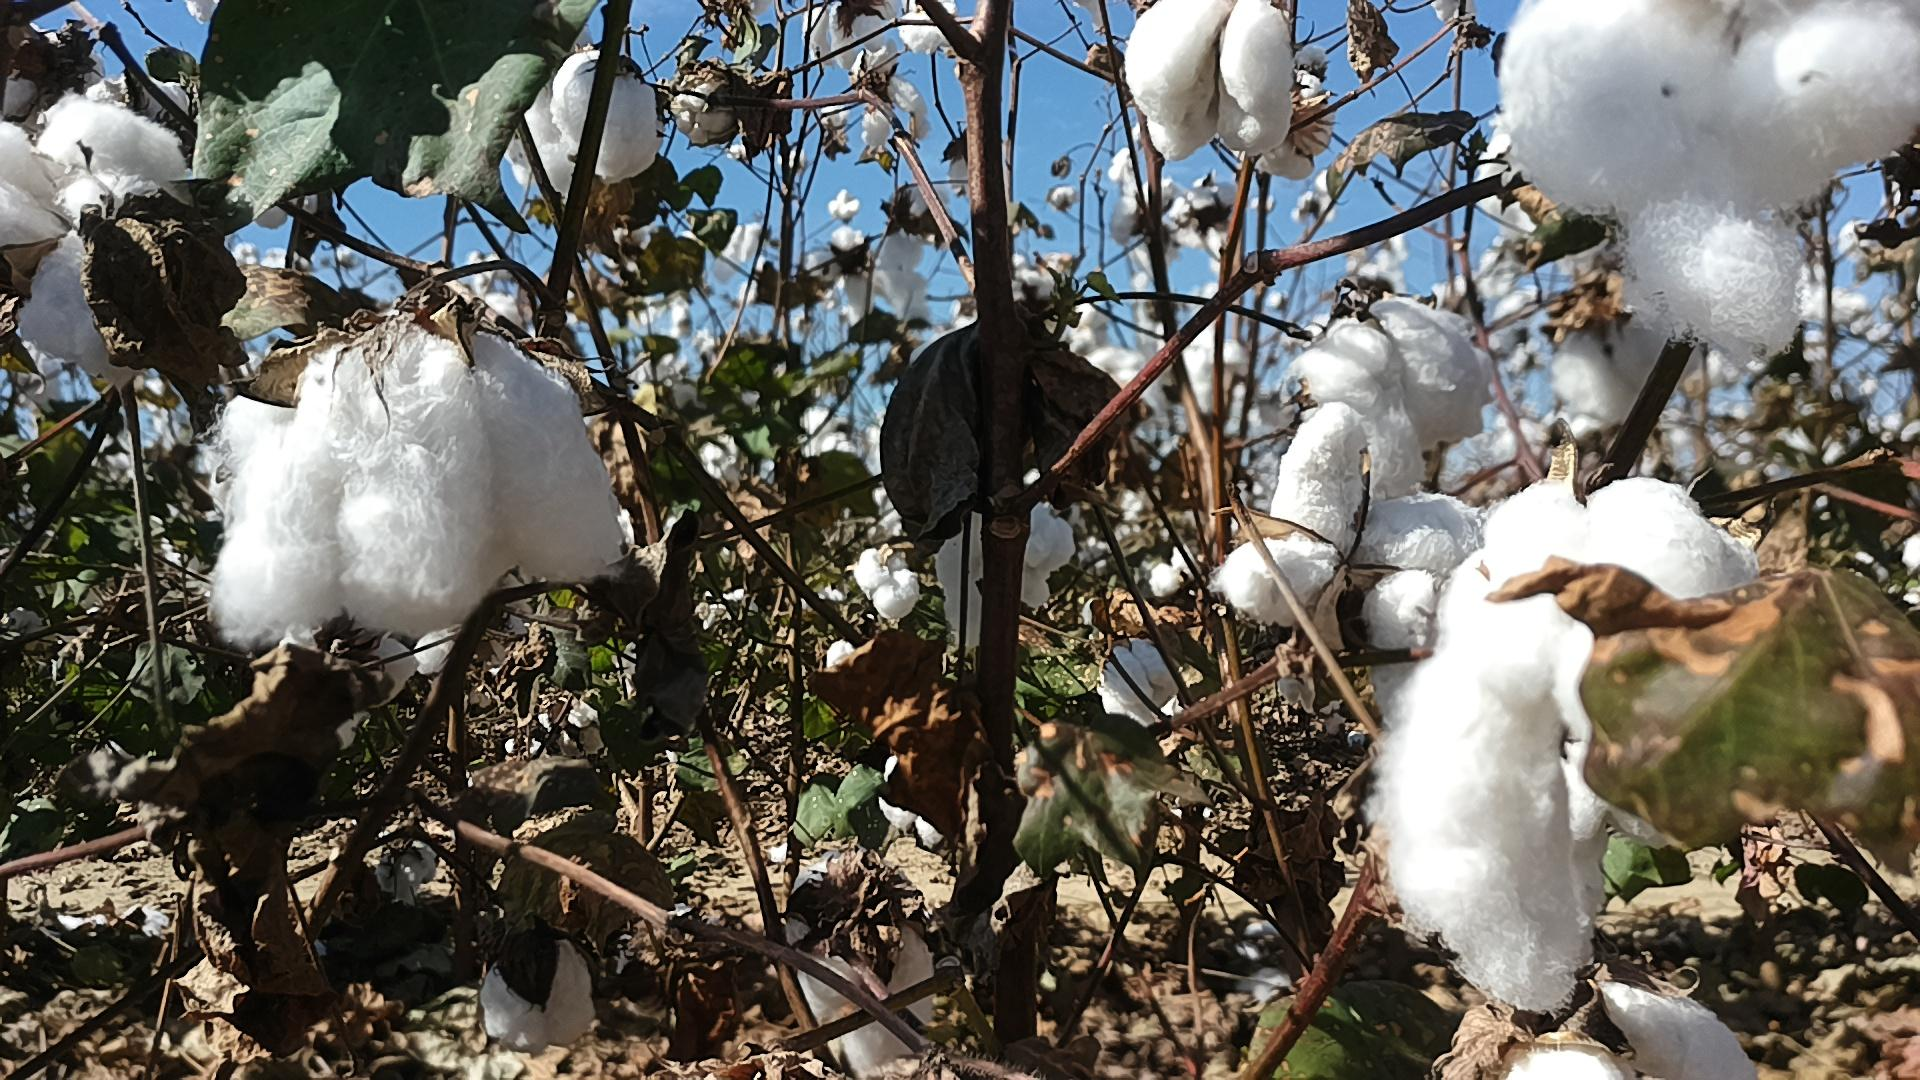cotton_ready: (1383, 480, 1760, 1010), (1498, 0, 1920, 365), (202, 309, 630, 651), (1218, 404, 1484, 655), (0, 98, 189, 381), (1298, 295, 1495, 495), (791, 862, 934, 1075), (1461, 982, 1763, 1080), (1122, 0, 1294, 166), (932, 476, 1076, 653), (504, 49, 669, 198), (1548, 315, 1676, 427), (481, 935, 600, 1052), (1096, 636, 1189, 731), (800, 0, 902, 69), (667, 71, 736, 145)
